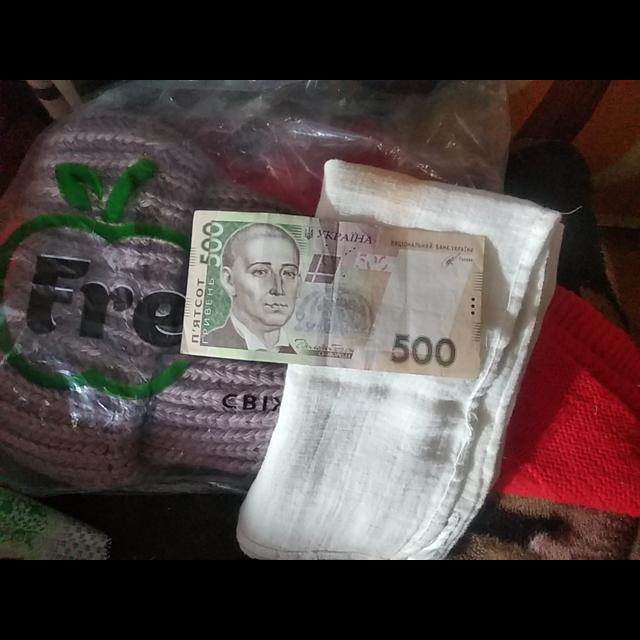500uah: (181, 211, 488, 379)
